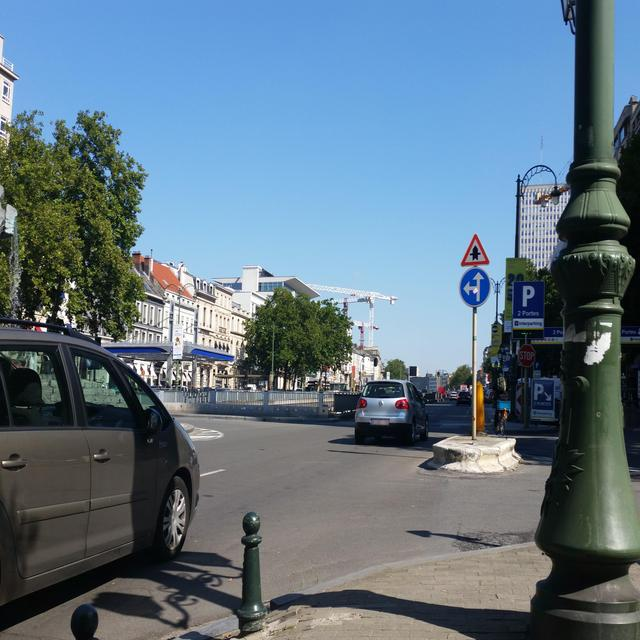Bicycle: (499, 410, 505, 434)
Billboard: (529, 326, 562, 427), (621, 326, 639, 343), (502, 372, 510, 400), (361, 375, 370, 385), (215, 378, 221, 388)
Car: (0, 317, 199, 606), (355, 379, 427, 445), (541, 375, 561, 400)
Vegetation: (616, 131, 639, 359), (482, 310, 520, 386), (0, 238, 10, 316), (449, 363, 471, 390)
